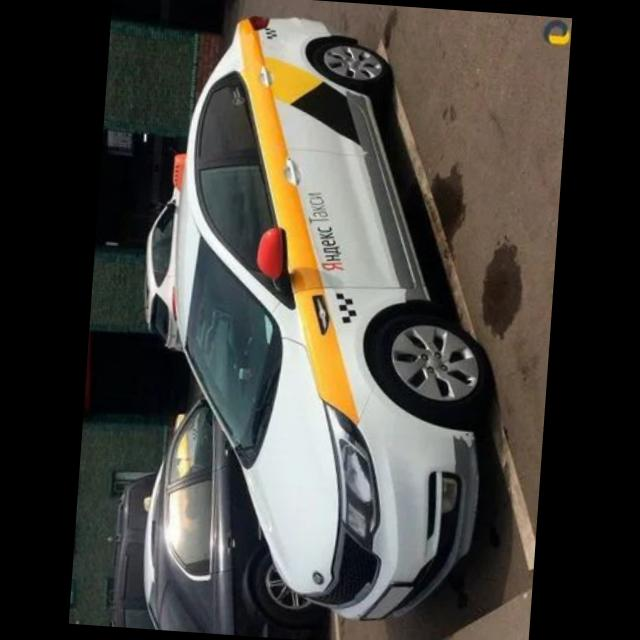taxi: (140, 10, 517, 631)
